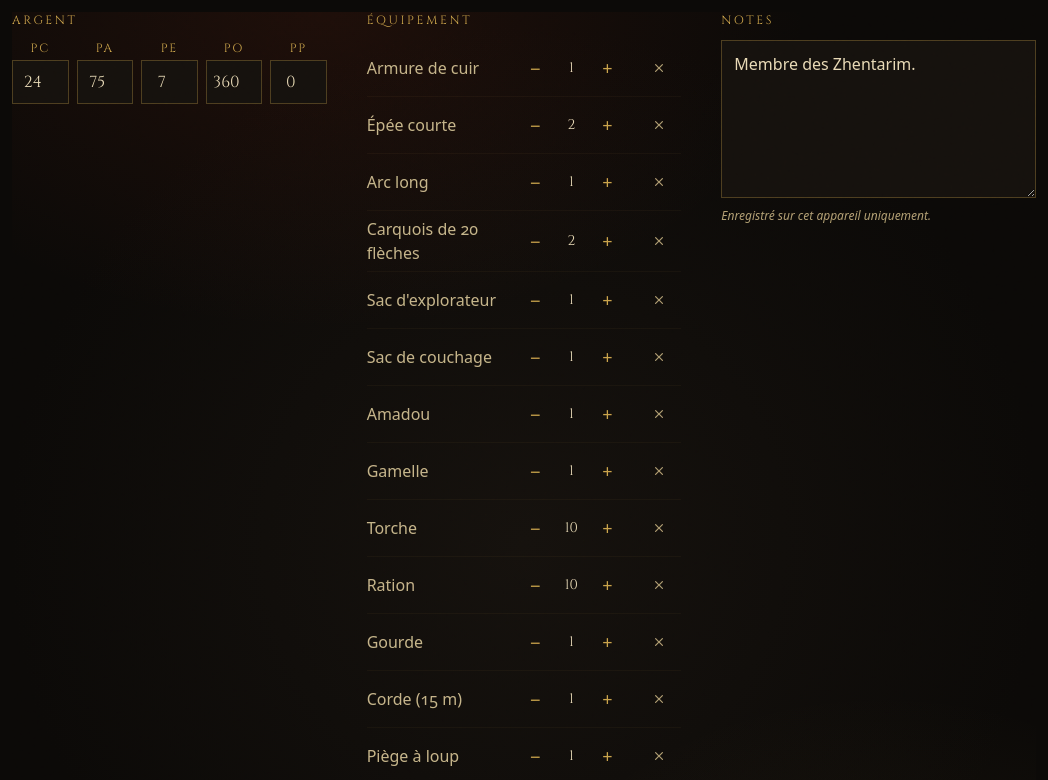
Test case: CodexInventory › modifie la quantité avec les boutons
Click the button "−" next to "Torche". click: (535, 528)
box: [513,506,557,550]
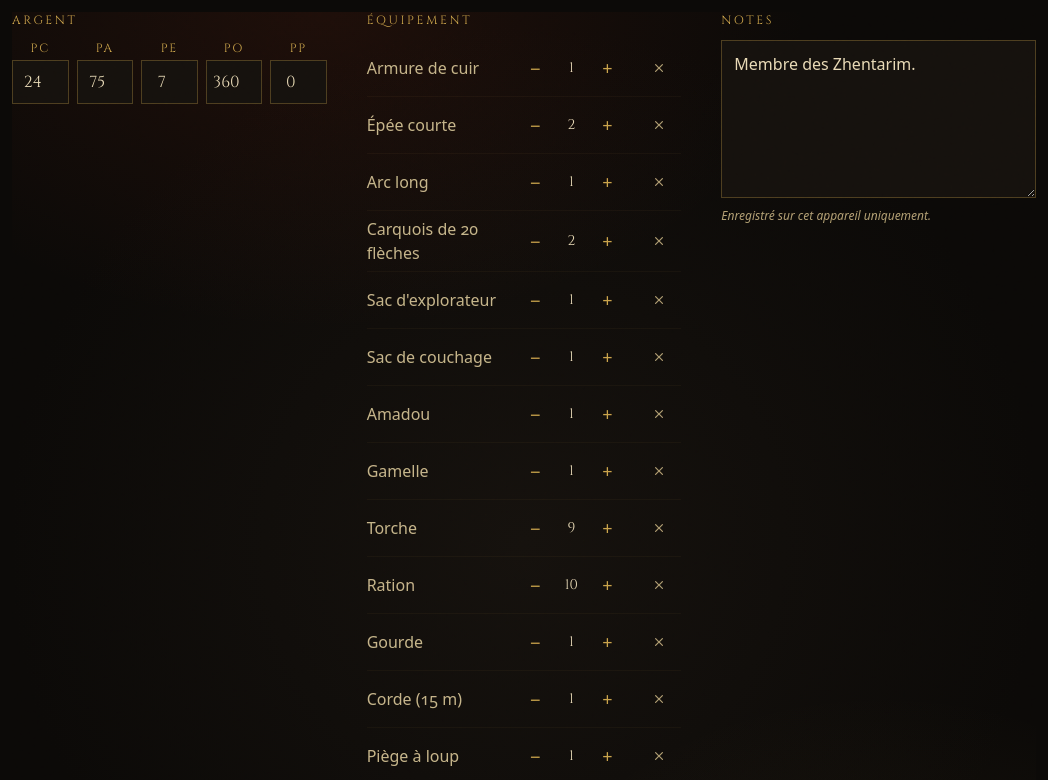
expect the text "9" is shown: met, box [567,518,575,537]
